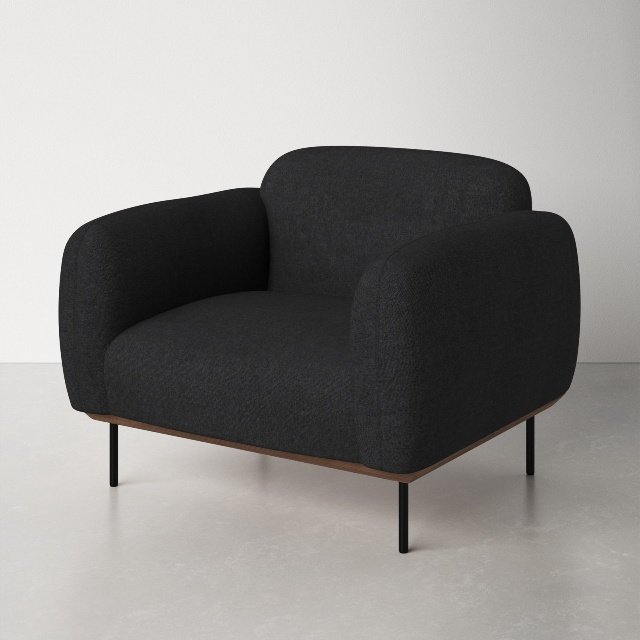obstacle: (59, 146, 579, 552)
